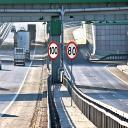speed_limit_100: (47, 40, 60, 60)
speed_limit_80: (65, 40, 79, 61)
